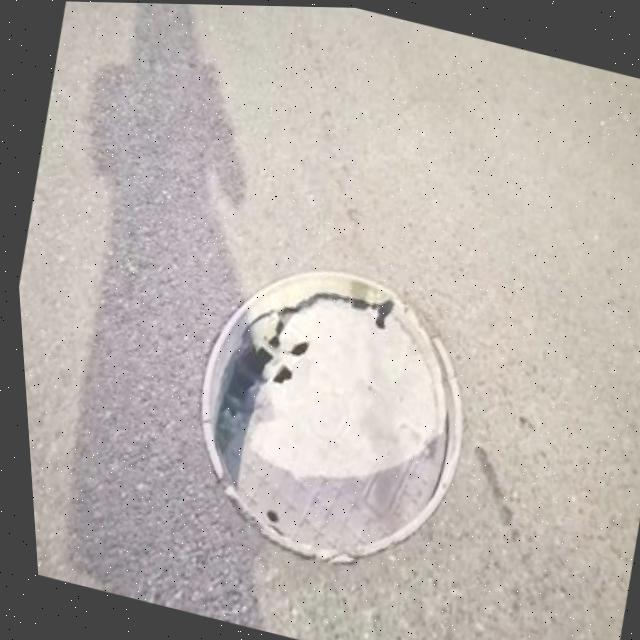manhole: (150, 234, 493, 587)
